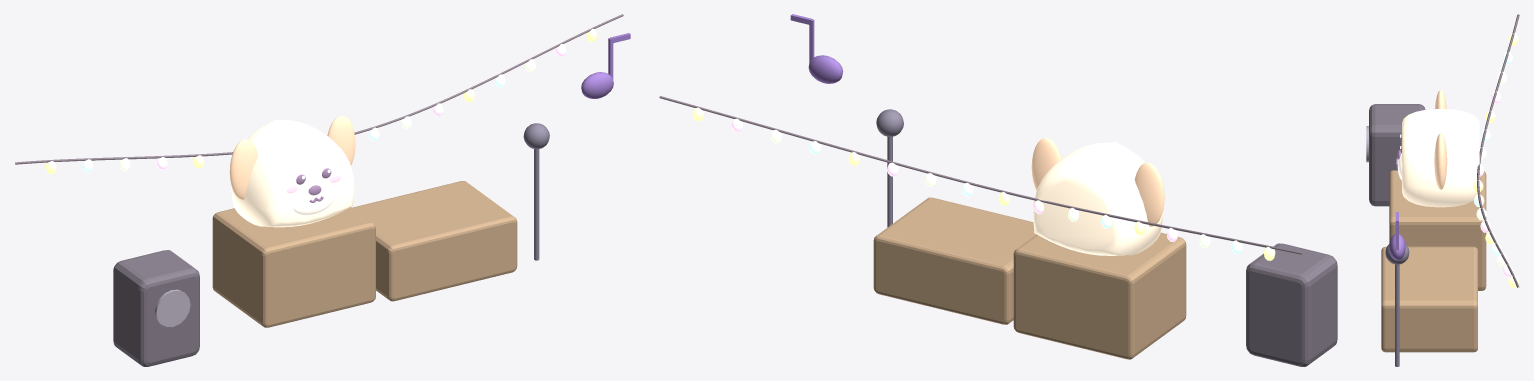
Rendered from building_bandstand_L02.glb.
The picture shows the model from 3 angles, left to right: view 1: azimuth 30°, elevation 25°; view 2: azimuth 150°, elevation 25°; view 3: azimuth 270°, elevation 25°; orthographic projection. The views are drawn at different scales.
Visible parts, largest first — view 1: Body, object 7, object 8, object 9; view 2: Body, object 7, object 8; view 3: Body, object 7, object 8.
Part boxes in pixels (x1,y1,x2,y2): Body: [15, 14, 630, 366]; object 7: [231, 120, 354, 227]; object 8: [229, 115, 355, 199]; object 9: [292, 184, 334, 215]; Body: [659, 14, 1337, 366]; object 7: [1033, 142, 1163, 255]; object 8: [1031, 138, 1164, 226]; Body: [1366, 14, 1519, 366]; object 7: [1402, 109, 1479, 207]; object 8: [1434, 90, 1447, 189].
Size of the model in its own units: 16.01 by 5.11 by 3.8.
